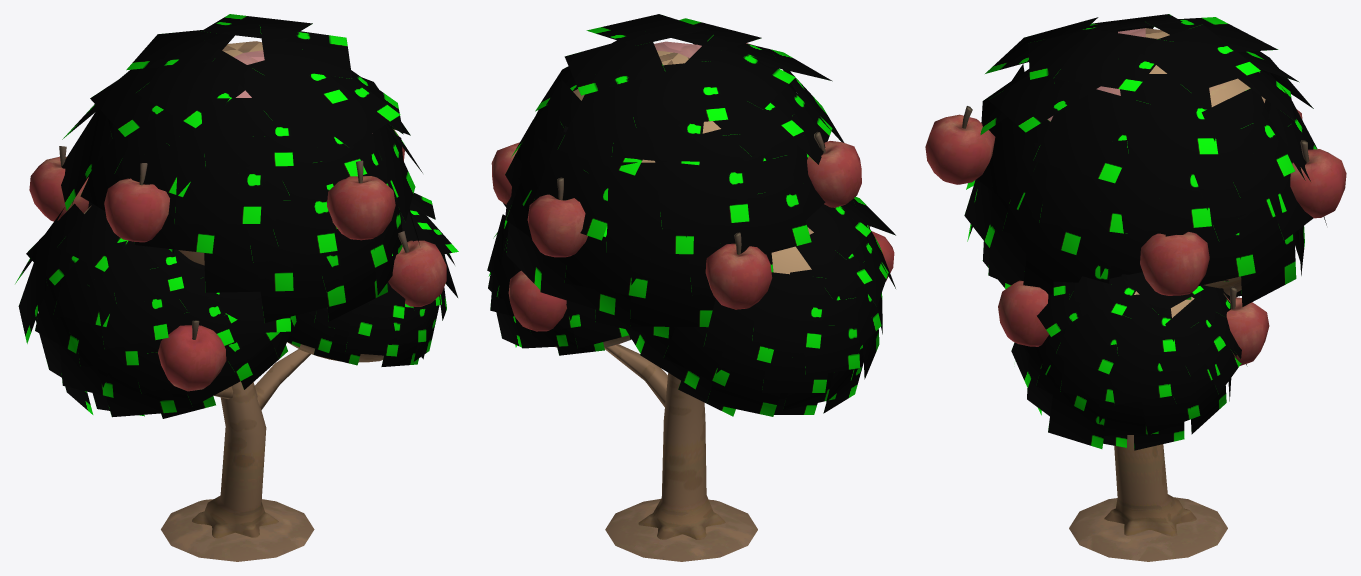
The model's file is AppleTree.fbx.
3 renders of one model, left to right at view 1: azimuth 30°, elevation 25°; view 2: azimuth 150°, elevation 25°; view 3: azimuth 270°, elevation 25°, orthographic. The views are drawn at different scales.
Parts seen in each view (by area): view 1: SM_Apple_Harvestable_LOD0.mo; view 2: SM_Apple_Harvestable_LOD0.mo; view 3: SM_Apple_Harvestable_LOD0.mo.
Boxes of the visible parts, left/top/right/bottom form: SM_Apple_Harvestable_LOD0.mo: left=15, top=14, right=458, bottom=561; SM_Apple_Harvestable_LOD0.mo: left=487, top=14, right=895, bottom=561; SM_Apple_Harvestable_LOD0.mo: left=925, top=14, right=1346, bottom=561.
Size of the model in its own units: 182 by 217 by 164.
Materials: 3 (3 with a texture image).
